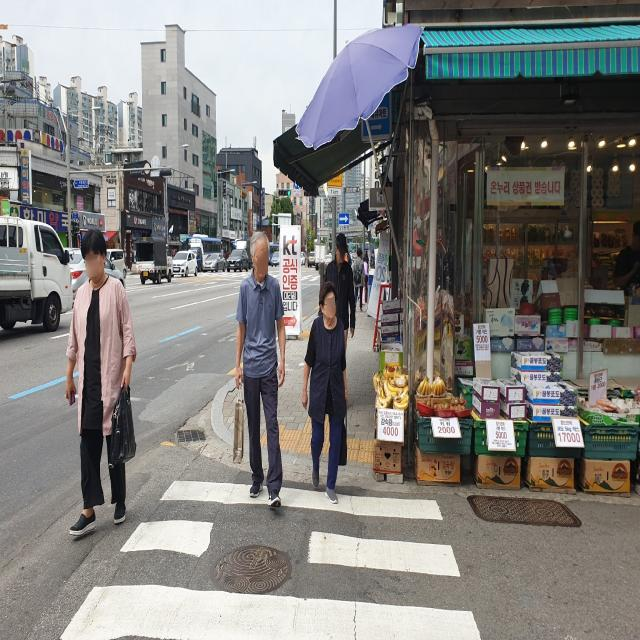횡단보도: (56, 476, 483, 640)
